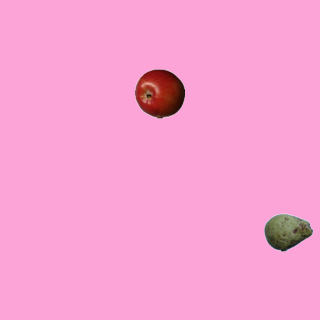Apple Braeburn: (134, 68, 184, 118)
Pear Stone: (263, 207, 313, 257)
